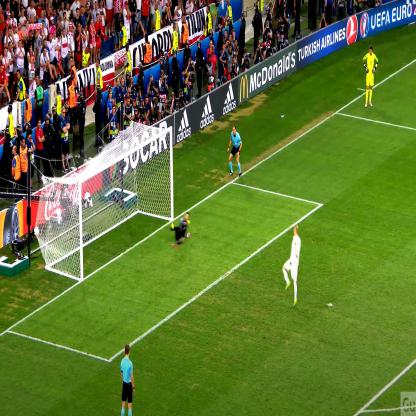goal: (44, 139, 206, 309)
